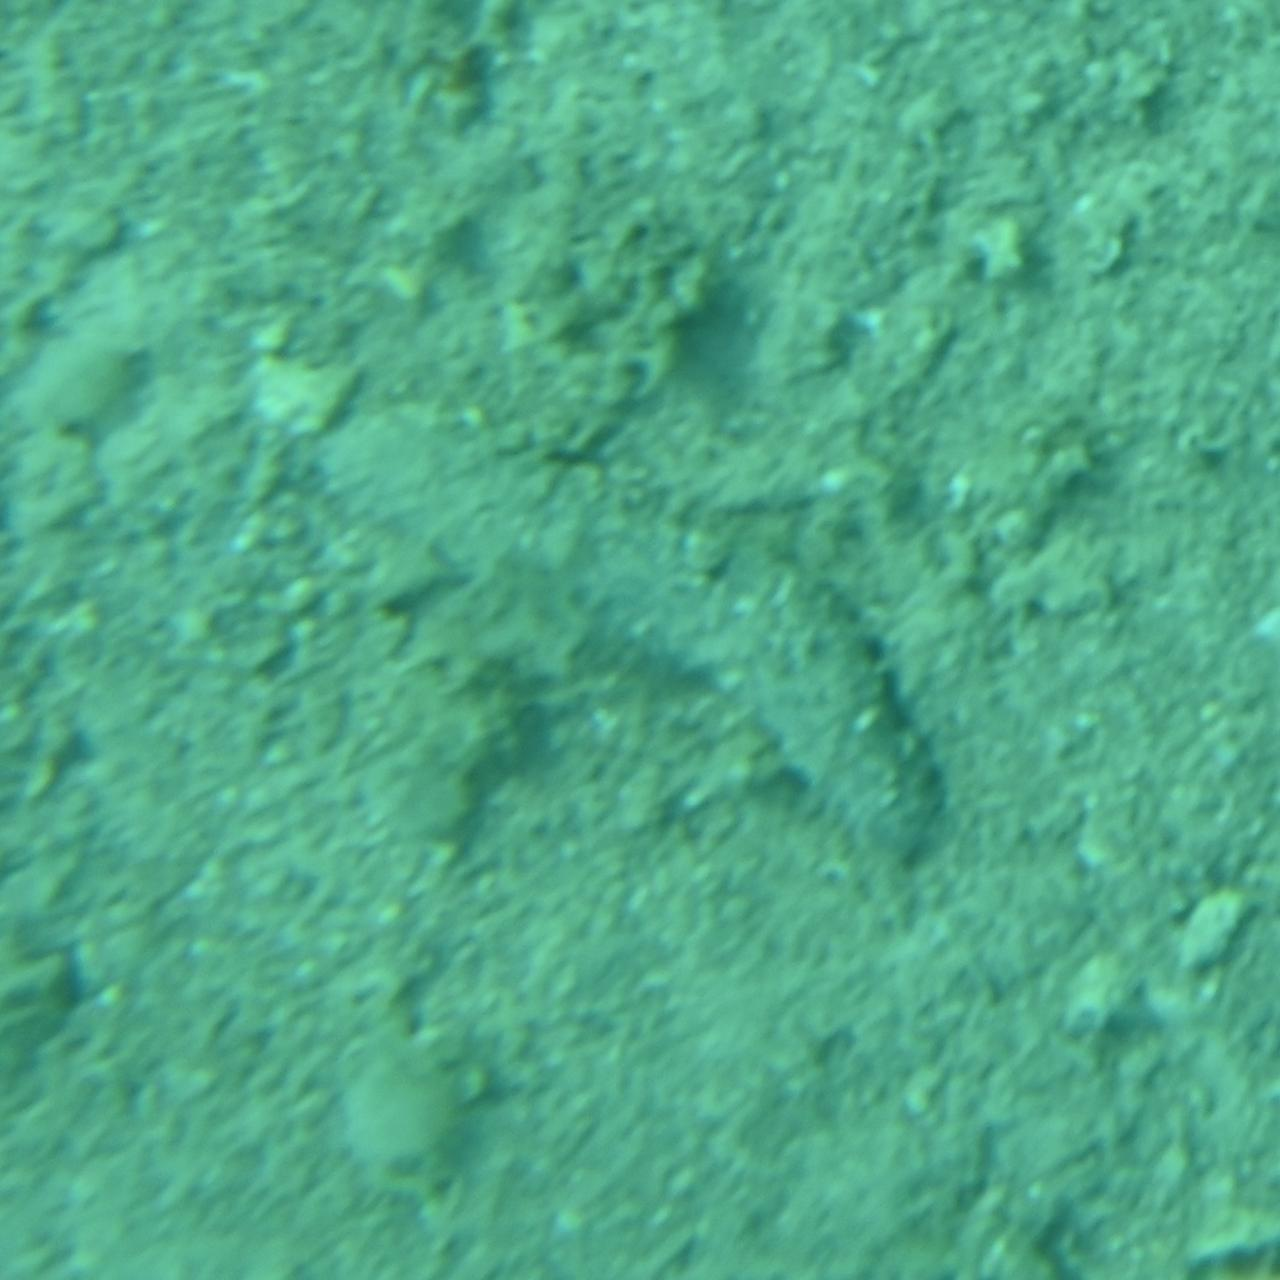Holothuria tubulosa: (307, 400, 973, 880)
